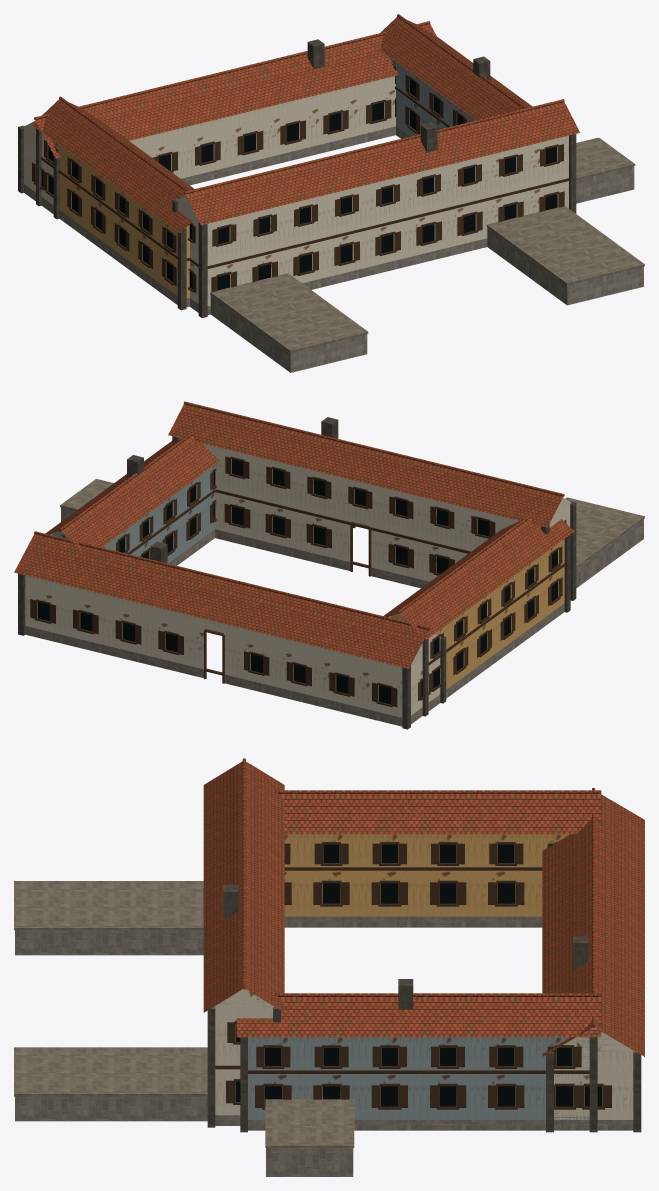
Rendered from SM_Art_NoSafeHarborKnowledgeRoute.gltf.
The picture shows the model from 3 angles, top to bottom: view 1: azimuth 30°, elevation 25°; view 2: azimuth 150°, elevation 25°; view 3: azimuth 270°, elevation 25°; orthographic projection. The views are drawn at different scales.
Visible parts, largest first — view 1: SM_Art_NoSafeHarborKnowledgeRoute; view 2: SM_Art_NoSafeHarborKnowledgeRoute; view 3: SM_Art_NoSafeHarborKnowledgeRoute.
Part boxes in pixels (left/top/right/bottom): SM_Art_NoSafeHarborKnowledgeRoute: left=18, top=14, right=644, bottom=372; SM_Art_NoSafeHarborKnowledgeRoute: left=14, top=401, right=644, bottom=729; SM_Art_NoSafeHarborKnowledgeRoute: left=14, top=758, right=644, bottom=1176.
Bounding box in the file's own units: 30.39 × 7.93 × 28.89.
9 materials, 8 textured.
